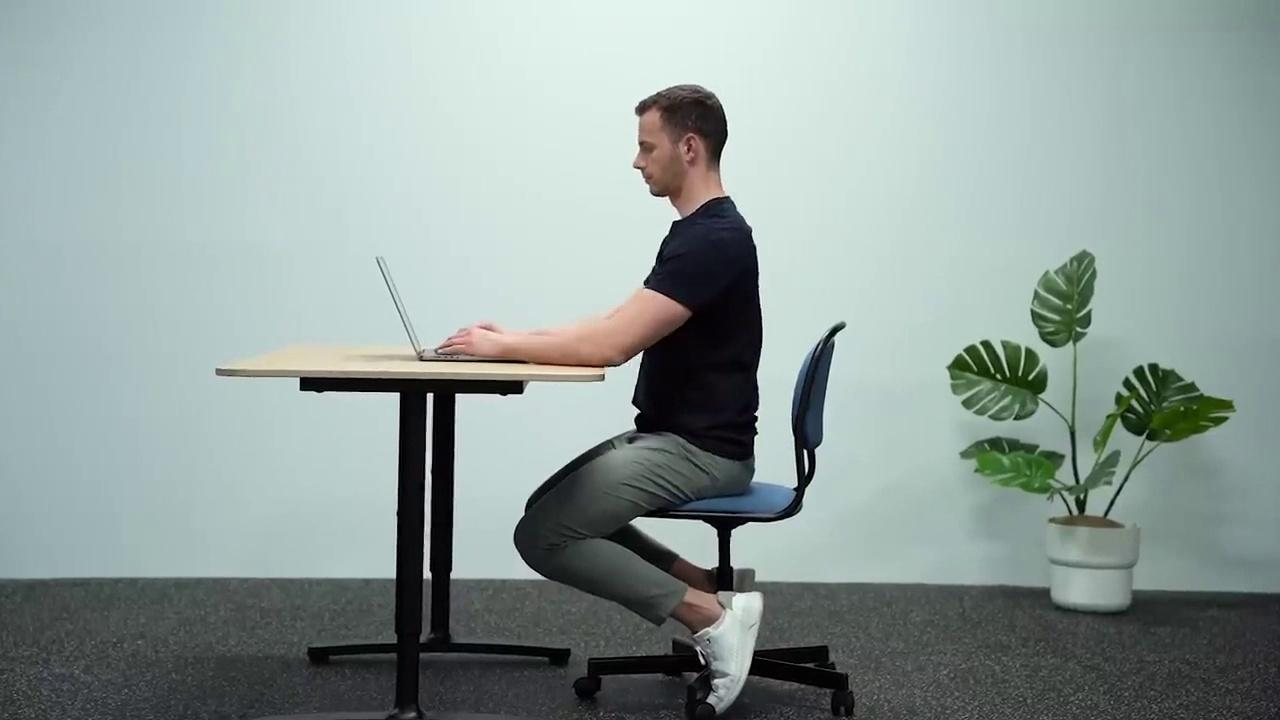GoodPosture: (438, 85, 763, 712)
